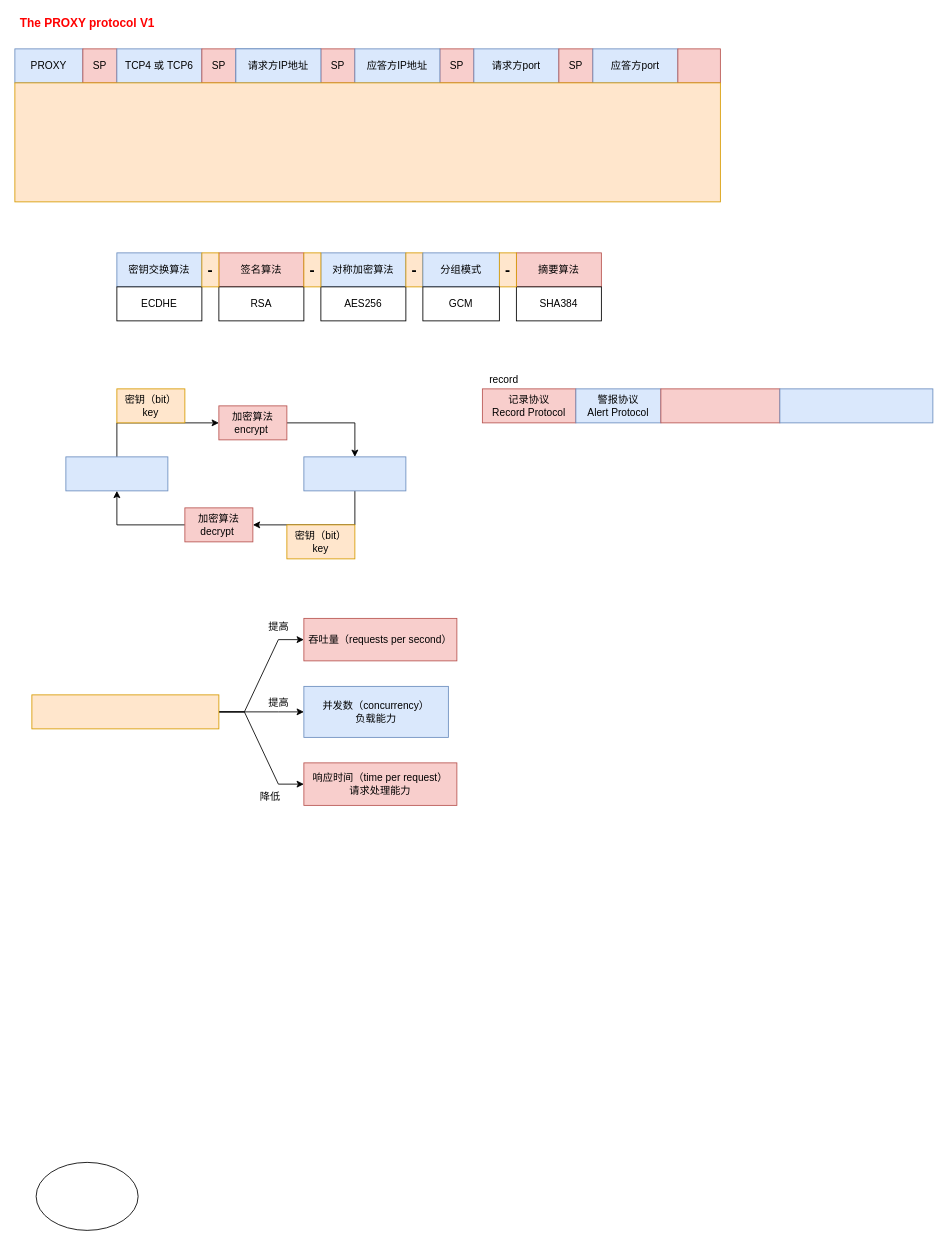
Image size: 948x1245. Some labels were removed from this diagram. The box of each missing label's shape, as (x1, y1, x2, y2) in pixels:
CRLF: (677, 48, 720, 83)
HTTP的格式: (14, 82, 720, 202)
Web服务器软件合理利用系统资源: (31, 694, 219, 729)
变更密码规范协议 Change Ciper Spec Protocol: (779, 388, 933, 423)
密文 cipher text: (303, 456, 406, 491)
握手协议 Handshake Protocol: (660, 388, 780, 423)
明文 plain text/clear text: (65, 456, 168, 491)
